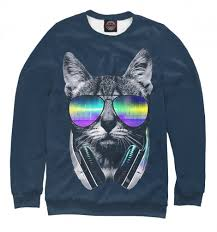cat: (58, 45, 160, 151)
